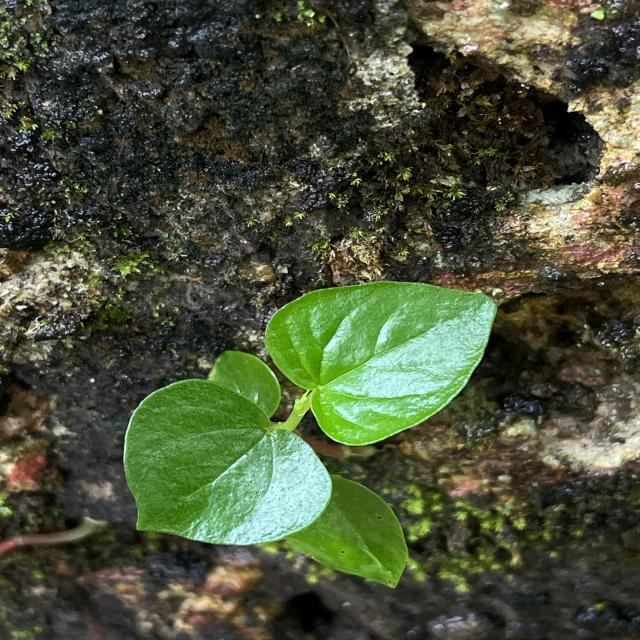Peperomia pellucida: (264, 279, 503, 448), (120, 378, 335, 548)
